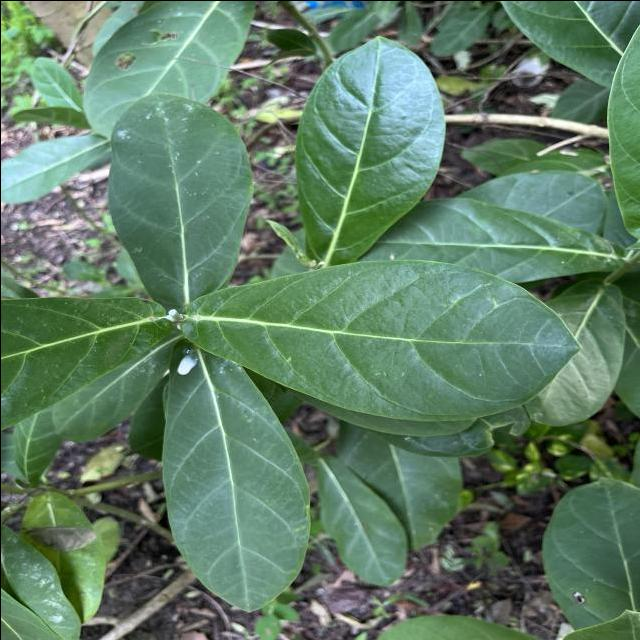Calotropis gigantea: (180, 256, 582, 422), (158, 334, 315, 612), (290, 33, 448, 263), (103, 90, 254, 302), (310, 449, 410, 588)
